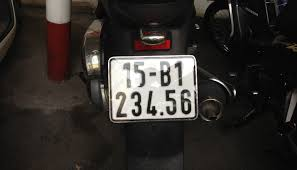number-plate: (109, 55, 199, 121)
